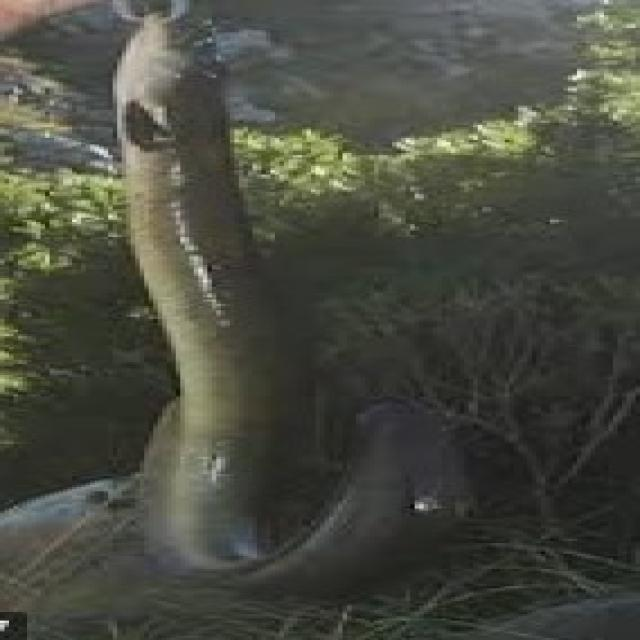Freshwater-Eel: (31, 0, 583, 572)
